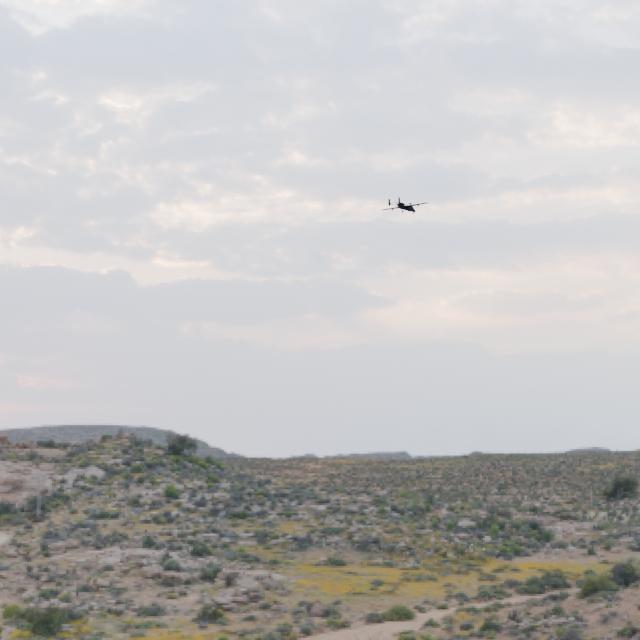Airaplan: (381, 197, 429, 214)
